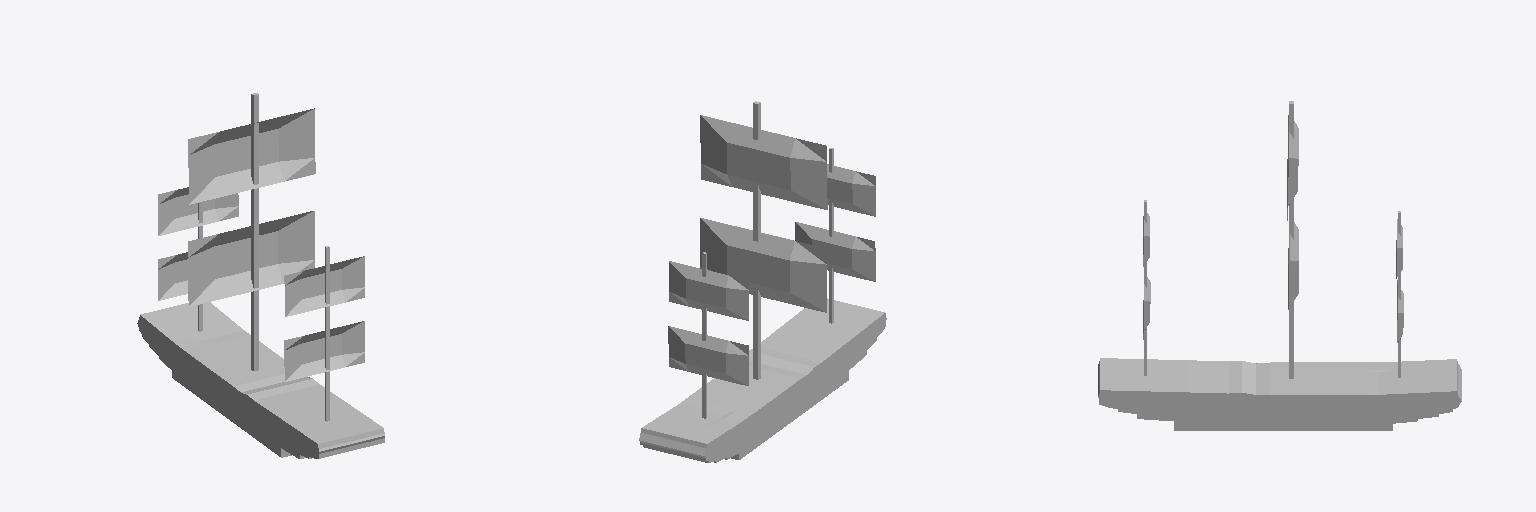
File: barque.obj
The picture shows the model from 3 angles: view 1: azimuth 30°, elevation 25°; view 2: azimuth 150°, elevation 25°; view 3: azimuth 270°, elevation 25°; orthographic projection.
Visible parts, largest first — view 1: Cube_Cube.010, Plane.001_Plane.002, Plane, Plane.004_Plane.005, Plane.005_Plane.006, Plane.002_Plane.003, Cube.001_Cube.004, Plane.003_Plane.004, Cube.003_Cube.009; view 2: Cube_Cube.010, Plane.001_Plane.002, Plane, Plane.003_Plane.004, Plane.002_Plane.003, Plane.004_Plane.005, Plane.005_Plane.006, Cube.001_Cube.004, Cube.003_Cube.009; view 3: Cube_Cube.010, Plane.001_Plane.002, Cube.001_Cube.004, Plane.
Boxes of the visible parts, box(x1,y1,x2,y2) form: Cube_Cube.010: box(137, 302, 384, 458); Plane.001_Plane.002: box(188, 108, 315, 204); Plane: box(188, 211, 314, 306); Plane.004_Plane.005: box(284, 321, 364, 381); Plane.005_Plane.006: box(284, 256, 364, 316); Plane.002_Plane.003: box(158, 187, 238, 235); Cube.001_Cube.004: box(251, 93, 258, 370); Plane.003_Plane.004: box(158, 252, 187, 300); Cube.003_Cube.009: box(325, 246, 329, 421); Cube_Cube.010: box(639, 298, 886, 462); Plane.001_Plane.002: box(700, 115, 827, 209); Plane: box(700, 218, 826, 312); Plane.003_Plane.004: box(668, 326, 748, 385); Plane.002_Plane.003: box(669, 261, 748, 320); Plane.004_Plane.005: box(795, 222, 875, 281); Plane.005_Plane.006: box(827, 164, 875, 216); Cube.001_Cube.004: box(753, 101, 760, 379); Cube.003_Cube.009: box(829, 148, 833, 323); Cube_Cube.010: box(1098, 358, 1461, 430); Plane.001_Plane.002: box(1287, 115, 1298, 220); Cube.001_Cube.004: box(1289, 101, 1293, 378); Plane: box(1288, 222, 1298, 309).
Bounding box in the file's own units: 3.27 × 7.72 × 8.14.